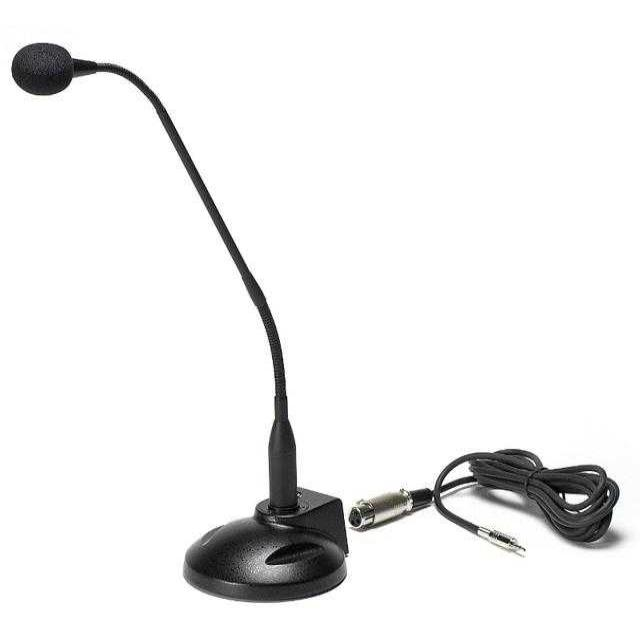microphone: (11, 42, 76, 97)
